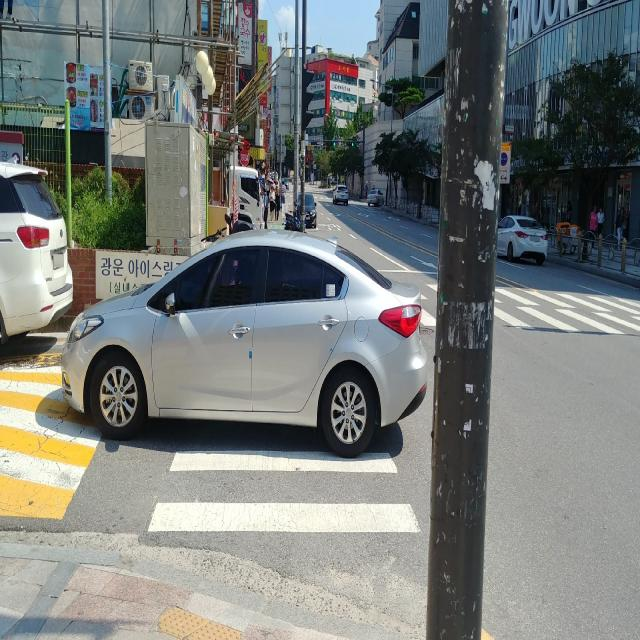횡단보도: (147, 450, 421, 533), (494, 284, 640, 338)
